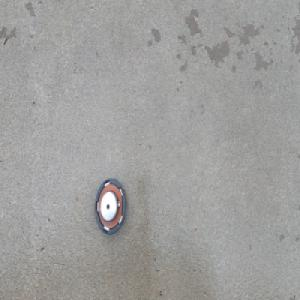FuelCap: (93, 175, 126, 237)
